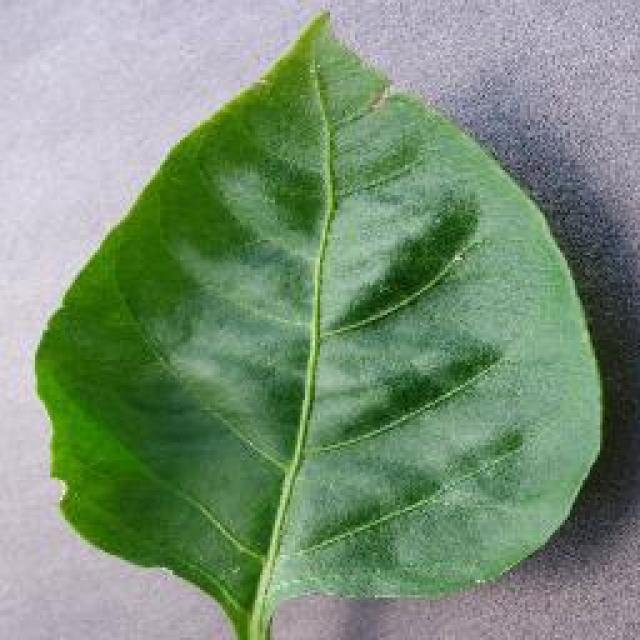Chilli_Healthy: (30, 8, 605, 638)
